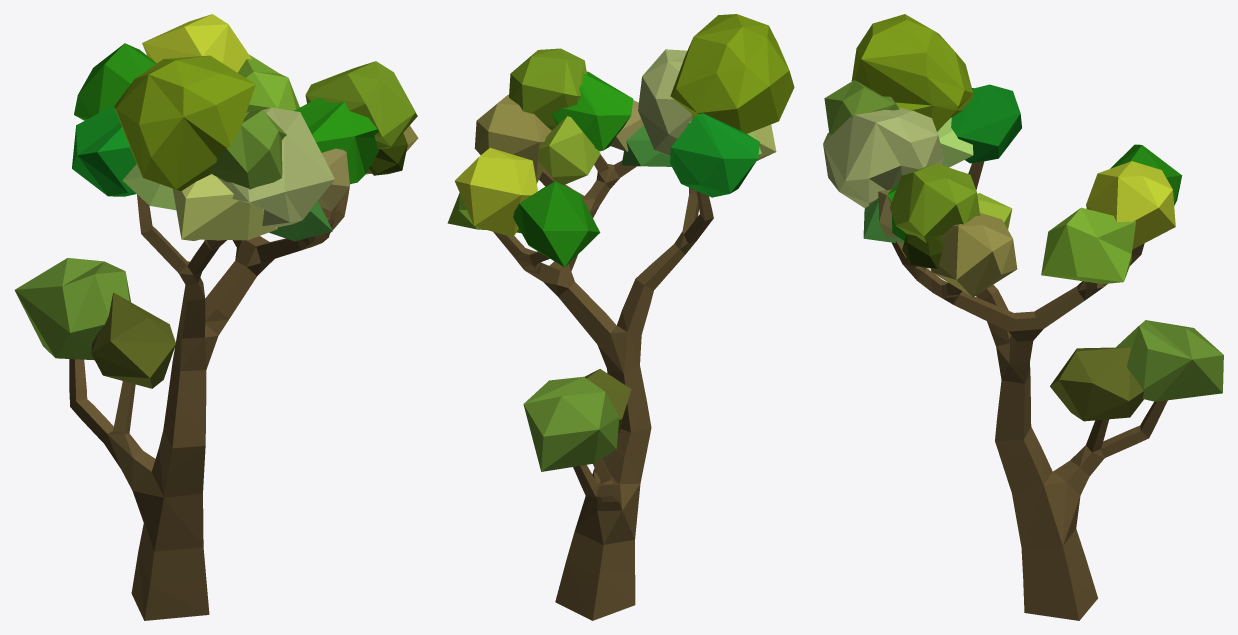
File: tree3.fbx
The picture shows the model from 3 angles, left to right: view 1: azimuth 30°, elevation 25°; view 2: azimuth 150°, elevation 25°; view 3: azimuth 270°, elevation 25°; orthographic projection. The views are drawn at different scales.
Visible parts, largest first — view 1: Cube, Icosphere.015, Icosphere, Icosphere.008, Icosphere.001, Icosphere.017, Icosphere.009, Icosphere.010, Icosphere.018, Icosphere.005, Icosphere.003, Icosphere.014 (+5 smaller); view 2: Cube, Icosphere.015, Icosphere, Icosphere.010, Icosphere.003, Icosphere.014, Icosphere.017, Icosphere.008, Icosphere.013, Icosphere.005, Icosphere.012, Icosphere.006 (+4 smaller); view 3: Cube, Icosphere.015, Icosphere.008, Icosphere, Icosphere.002, Icosphere.001, Icosphere.017, Icosphere.003, Icosphere.013, Icosphere.010, Icosphere.018, Icosphere.019 (+5 smaller).
Boxes of the visible parts, x1,y1,x2,y2 form: Cube: [69, 184, 350, 620]; Icosphere.015: [114, 55, 255, 191]; Icosphere: [14, 258, 130, 360]; Icosphere.008: [217, 107, 334, 227]; Icosphere.001: [91, 292, 175, 388]; Icosphere.017: [305, 61, 417, 148]; Icosphere.009: [172, 174, 277, 240]; Icosphere.010: [72, 105, 136, 196]; Icosphere.018: [210, 110, 286, 189]; Icosphere.005: [294, 97, 379, 183]; Icosphere.003: [142, 14, 251, 72]; Icosphere.014: [74, 43, 156, 120]; Cube: [493, 154, 713, 620]; Icosphere.015: [670, 14, 794, 133]; Icosphere: [523, 376, 619, 471]; Icosphere.010: [670, 113, 759, 197]; Icosphere.003: [455, 147, 537, 237]; Icosphere.014: [513, 181, 600, 267]; Icosphere.017: [509, 48, 586, 130]; Icosphere.008: [638, 49, 692, 155]; Icosphere.013: [474, 94, 551, 183]; Icosphere.005: [552, 71, 633, 151]; Icosphere.012: [538, 116, 600, 184]; Icosphere.006: [621, 125, 671, 166]; Cube: [892, 161, 1167, 620]; Icosphere.015: [851, 14, 972, 131]; Icosphere.008: [823, 107, 944, 207]; Icosphere: [1116, 320, 1223, 401]; Icosphere.002: [1041, 207, 1135, 283]; Icosphere.001: [1050, 347, 1143, 421]; Icosphere.017: [890, 163, 980, 243]; Icosphere.003: [1086, 161, 1175, 249]; Icosphere.013: [930, 212, 1017, 297]; Icosphere.010: [951, 84, 1021, 163]; Icosphere.018: [824, 80, 899, 134]; Icosphere.019: [902, 234, 942, 268].
Bounding box in the file's own units: 1054 × 1922 × 1269.
